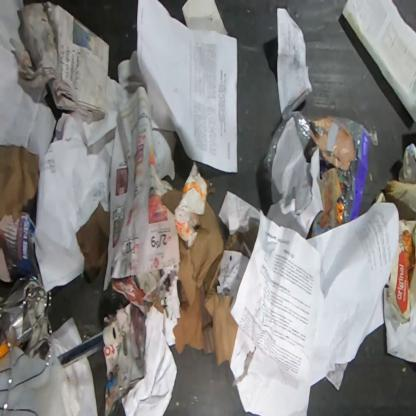cardboard: (172, 178, 259, 367), (386, 219, 416, 325)
metal: (0, 272, 54, 415), (58, 322, 119, 371)
soft_plastic: (264, 102, 378, 228)
